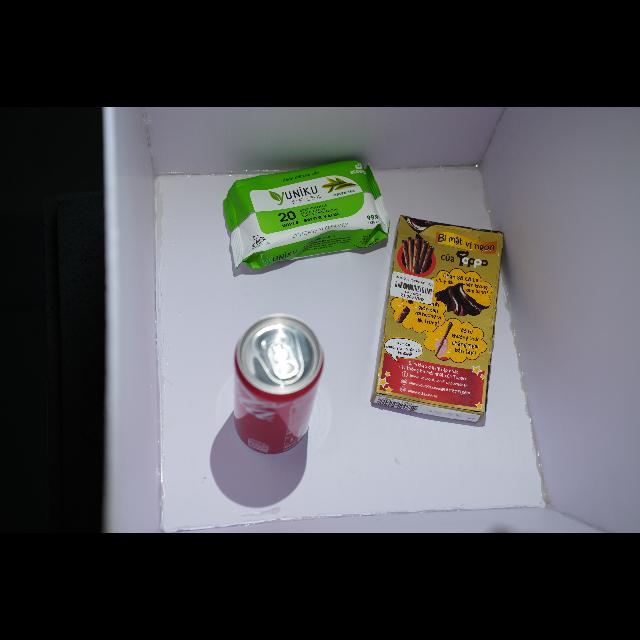banh_toppo_socola: (371, 217, 502, 422)
coca_cola: (233, 314, 324, 454)
khan_giay: (223, 161, 390, 269)
